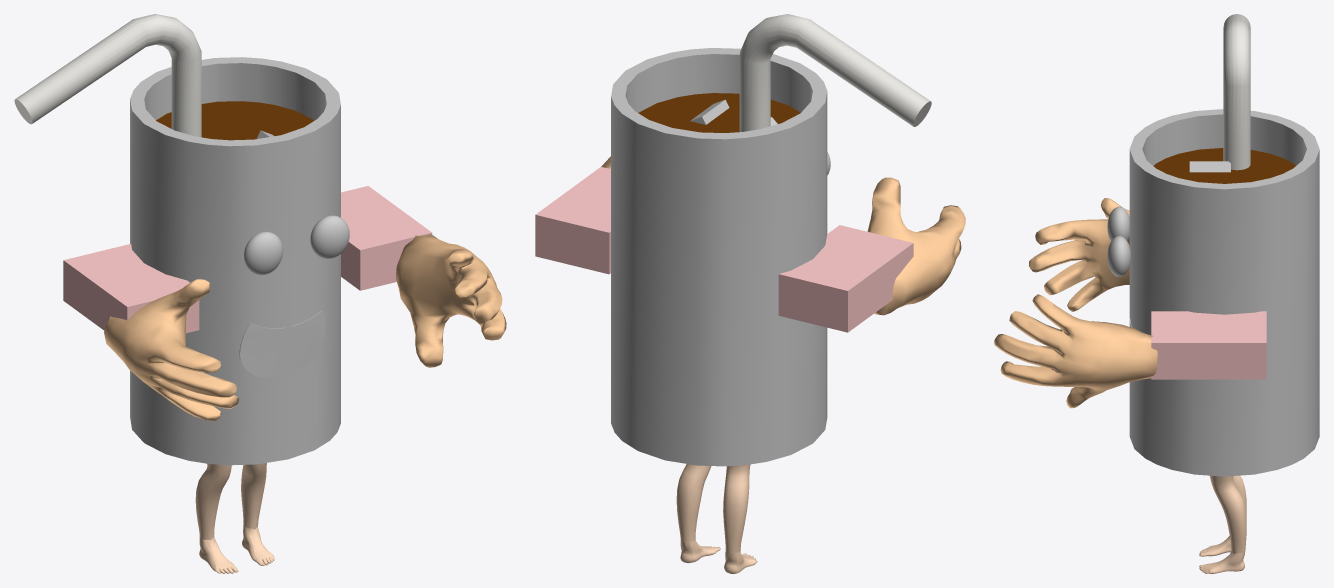
3 views of the same model, side by side, from view 1: azimuth 30°, elevation 25°; view 2: azimuth 150°, elevation 25°; view 3: azimuth 270°, elevation 25° (orthographic). The views are drawn at different scales.
Visible parts, largest first — view 1: Pack 9.006; view 2: Pack 9.006; view 3: Pack 9.006.
Boxes of the visible parts, box(x1,y1,x2,y2) form: Pack 9.006: box(14, 14, 506, 573); Pack 9.006: box(535, 14, 965, 573); Pack 9.006: box(994, 14, 1319, 573).
Size of the model in its own units: 85.56 by 118 by 69.27.
